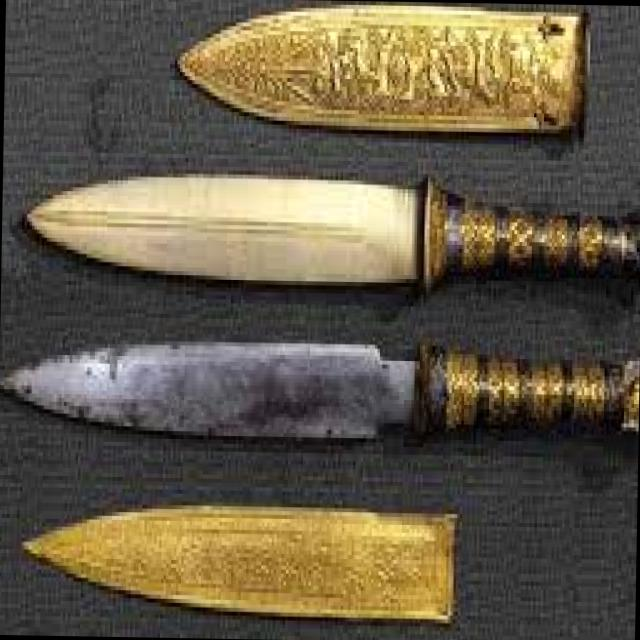Gun: (20, 135, 640, 306), (0, 310, 640, 466)
